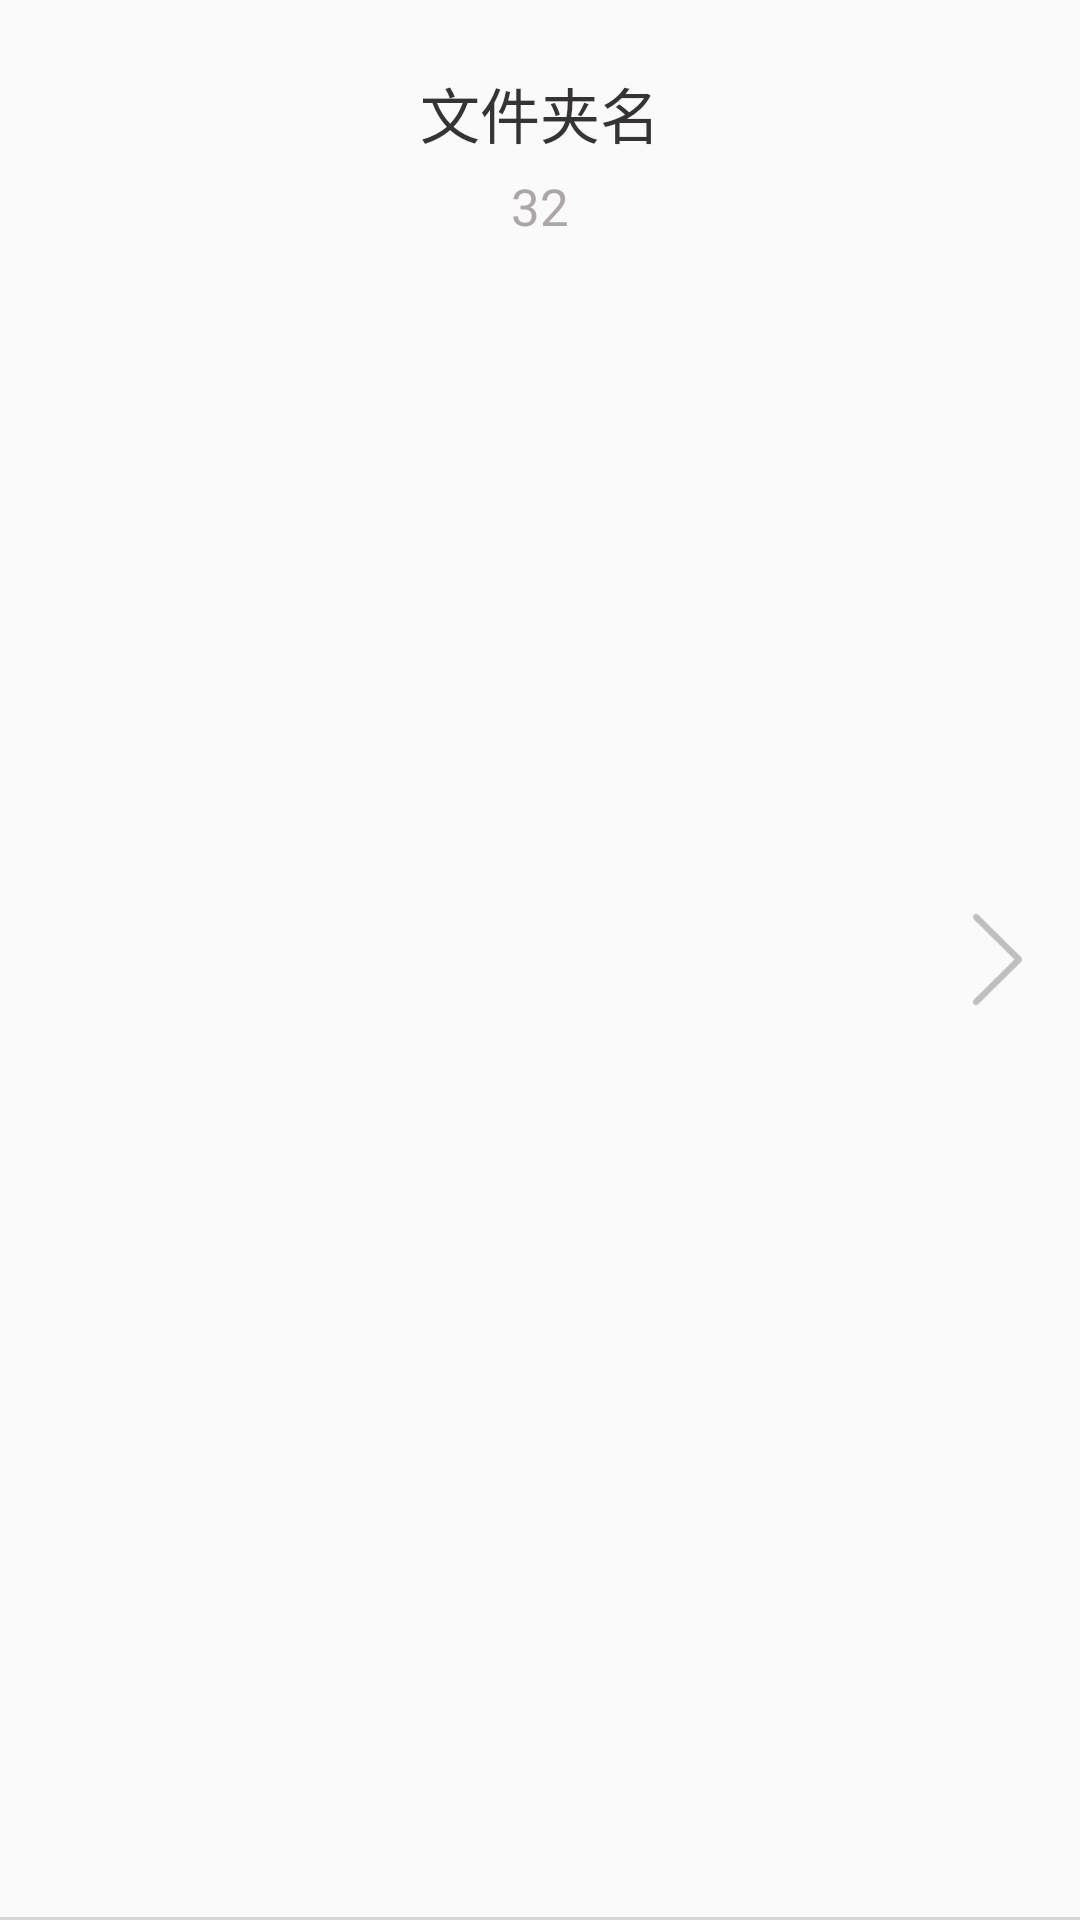

Screen size 1080 x 1920. Icon name, then its center in pixels as point (x, y):
right: point (997, 959)
